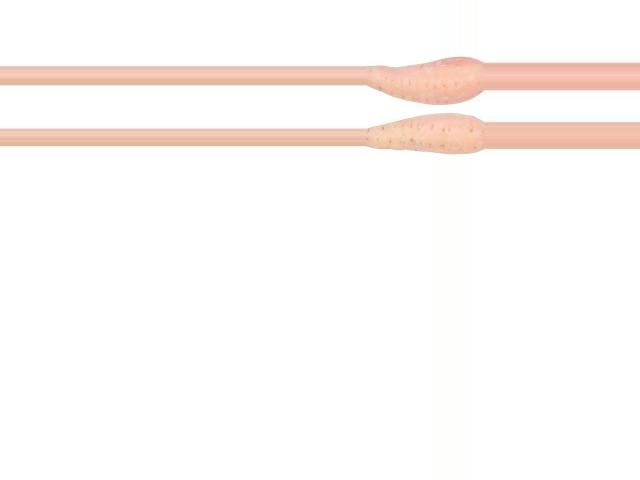sweet_potato: (369, 112, 484, 153)
